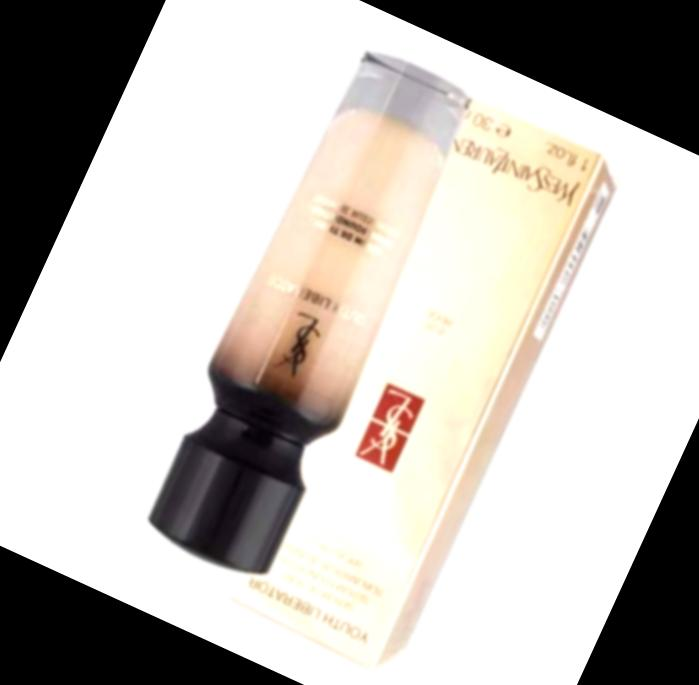cosmetic: (136, 39, 489, 580)
